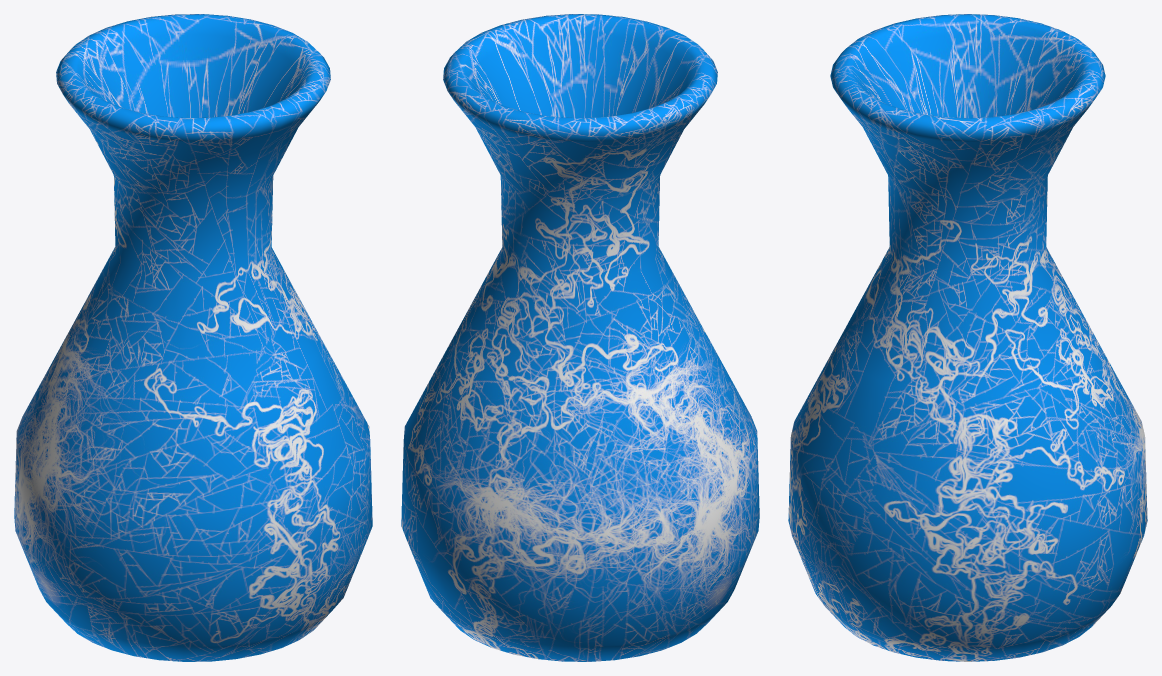
The model's file is flower_vase.glb.
3 views of the same model, side by side, from view 1: azimuth 30°, elevation 25°; view 2: azimuth 150°, elevation 25°; view 3: azimuth 270°, elevation 25° (orthographic).
Visible parts, largest first — view 1: Circle; view 2: Circle; view 3: Circle.
Boxes of the visible parts, x1,y1,x2,y2 form: Circle: [14, 14, 372, 661]; Circle: [401, 14, 759, 661]; Circle: [788, 14, 1147, 661].
Size of the model in its own units: 0.2446 by 0.4073 by 0.2446.
Materials: 1 (1 with a texture image).
